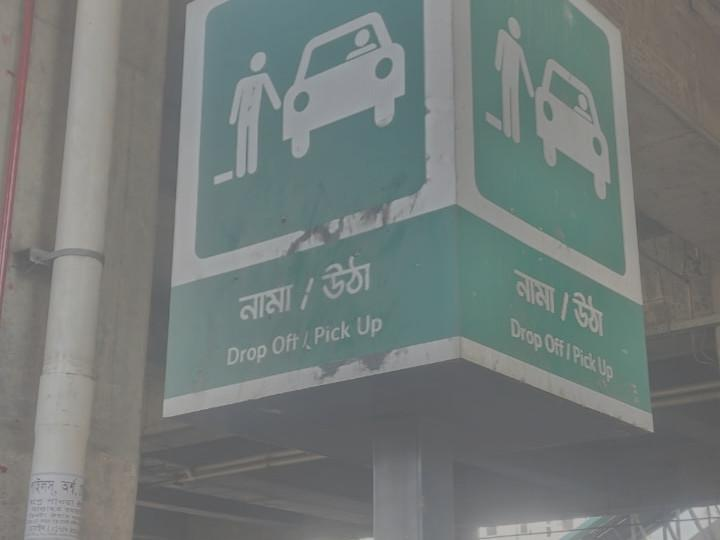Metro Dorp Up Pick up: (164, 0, 650, 439)
